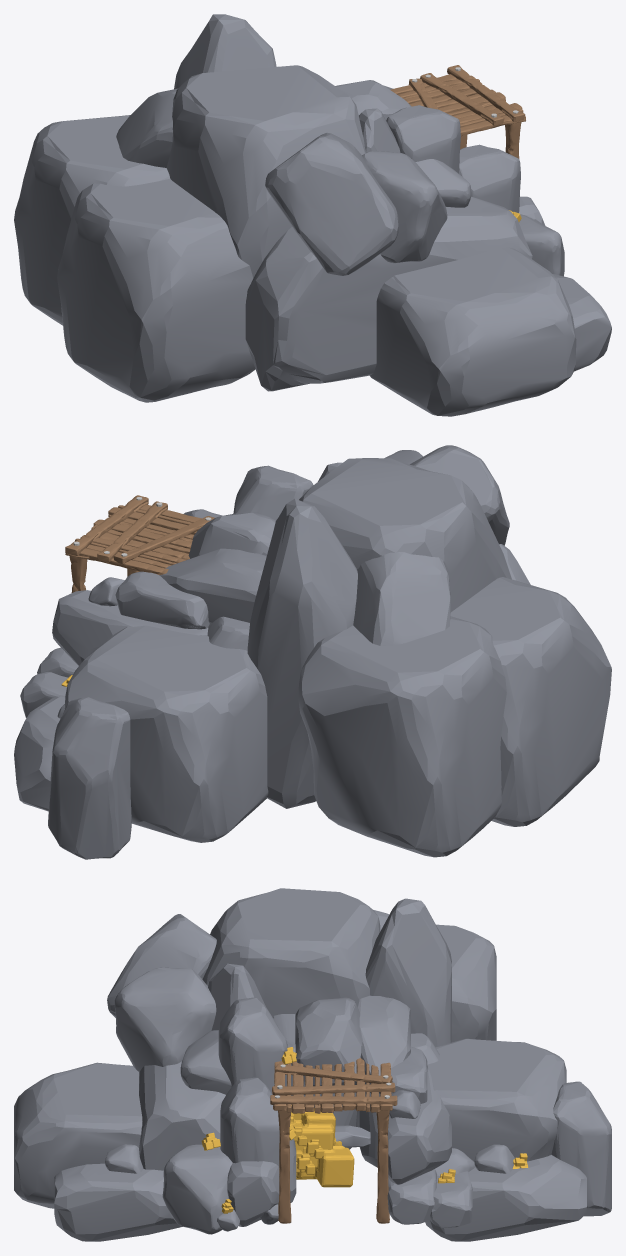
The model's file is Mine.fbx.
The picture shows the model from 3 angles, top to bottom: view 1: azimuth 30°, elevation 25°; view 2: azimuth 150°, elevation 25°; view 3: azimuth 270°, elevation 25°; orthographic projection. The views are drawn at different scales.
Parts seen in each view (by area): view 1: Rock_space.038, Rock_space.027, Rock_space.014, Rock_space.019, Rock_space.036, Rock_space.021, Rock_space.020, Rock_space.018, Rock_space.017, Rock_space.037, Rock_space, Rock_space.028 (+6 smaller); view 2: Rock_space.036, Rock_space.030, Rock_space.038, Rock_space.018, Rock_space.014, Rock_space.033, Rock_space.037, Rock_space.015, Rock_space.009, Rock_space.007, Rock_space.031, Rock_space.021 (+10 smaller); view 3: Rock_space.014, Rock_space.030, Rock_space.027, Rock_space.018, Rock_space.031, Rock_space.020, Rock_space.028, Rock_space.019, Rock_space.033, Rock_space.036, Rock_space.004, Rock_space.017 (+24 smaller).
Part boxes in pixels (left/top/right/bottom): Rock_space.038: left=57, top=179, right=255, bottom=402; Rock_space.027: left=369, top=247, right=576, bottom=416; Rock_space.014: left=166, top=65, right=365, bottom=278; Rock_space.019: left=245, top=196, right=532, bottom=391; Rock_space.036: left=14, top=115, right=170, bottom=325; Rock_space.021: left=265, top=132, right=398, bottom=275; Rock_space.020: left=362, top=151, right=447, bottom=263; Rock_space.018: left=174, top=14, right=276, bottom=89; Rock_space.017: left=386, top=105, right=460, bottom=173; Rock_space.037: left=116, top=88, right=177, bottom=167; Rock_space: left=459, top=144, right=520, bottom=212; Rock_space.028: left=552, top=274, right=611, bottom=371; Rock_space.036: left=298, top=616, right=506, bottom=857; Rock_space.030: left=64, top=625, right=268, bottom=842; Rock_space.038: left=450, top=577, right=611, bottom=826; Rock_space.018: left=247, top=498, right=357, bottom=808; Rock_space.014: left=299, top=458, right=511, bottom=611; Rock_space.033: left=48, top=697, right=131, bottom=859; Rock_space.037: left=353, top=552, right=450, bottom=645; Rock_space.015: left=159, top=548, right=266, bottom=623; Rock_space.009: left=52, top=590, right=208, bottom=665; Rock_space.007: left=115, top=571, right=209, bottom=629; Rock_space.031: left=14, top=696, right=65, bottom=811; Rock_space.021: left=410, top=445, right=509, bottom=545; Rock_space.014: left=202, top=888, right=380, bottom=1149; Rock_space.030: left=427, top=1038, right=566, bottom=1161; Rock_space.027: left=14, top=1062, right=142, bottom=1208; Rock_space.018: left=355, top=898, right=451, bottom=1167; Rock_space.031: left=425, top=1155, right=586, bottom=1241; Rock_space.020: left=114, top=967, right=216, bottom=1071; Rock_space.028: left=54, top=1163, right=182, bottom=1241; Rock_space.019: left=139, top=1061, right=225, bottom=1170; Rock_space.033: left=551, top=1081, right=611, bottom=1216; Rock_space.036: left=436, top=924, right=496, bottom=1042; Rock_space.004: left=162, top=1144, right=232, bottom=1234; Rock_space.017: left=218, top=997, right=287, bottom=1094.
Bounding box in the file's own units: 1351 × 855 × 1734.
